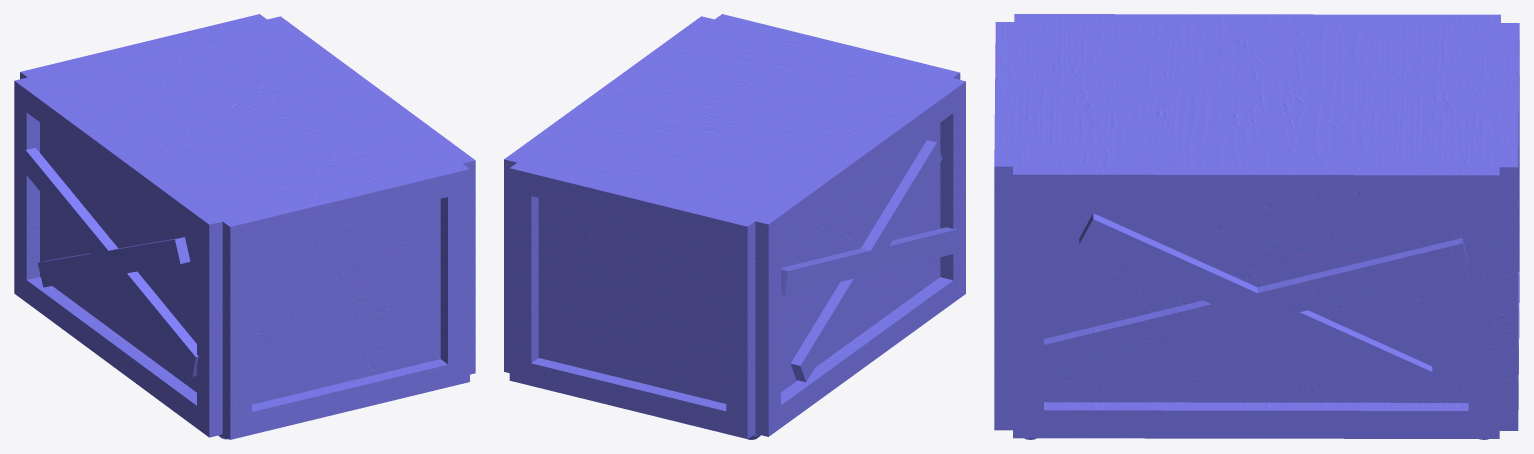
The model's file is CAIXA1.fbx.
3 views of the same model, side by side, from view 1: azimuth 30°, elevation 25°; view 2: azimuth 150°, elevation 25°; view 3: azimuth 270°, elevation 25° (orthographic). The views are drawn at different scales.
Parts seen in each view (by area): view 1: pasted__CUBO_MADEIRA_4; view 2: pasted__CUBO_MADEIRA_4; view 3: pasted__CUBO_MADEIRA_4.
Boxes of the visible parts, x1=… form: pasted__CUBO_MADEIRA_4: x1=14, y1=14, x2=475, y2=439; pasted__CUBO_MADEIRA_4: x1=504, y1=14, x2=965, y2=439; pasted__CUBO_MADEIRA_4: x1=994, y1=14, x2=1519, y2=439.
Size of the model in its own units: 3.36 by 2.68 by 4.57.
